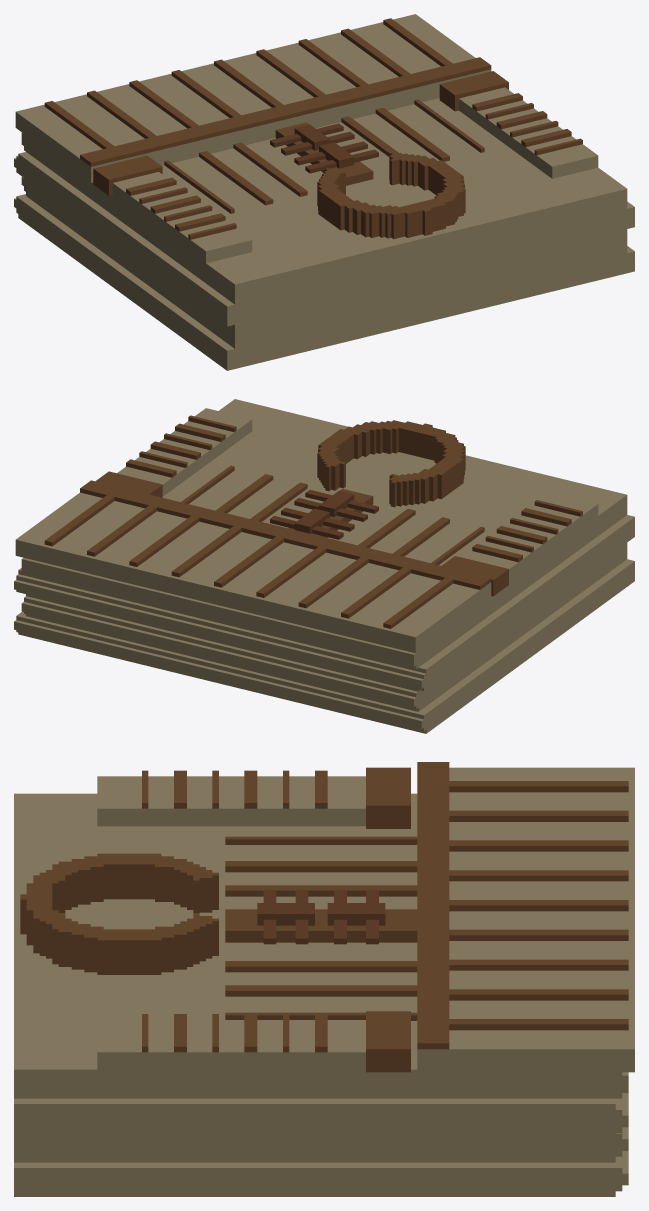
File: gambeson_canvas_thinsleeved.glb
3 views of the same model, one above another, from view 1: azimuth 30°, elevation 25°; view 2: azimuth 150°, elevation 25°; view 3: azimuth 270°, elevation 25° (orthographic). The views are drawn at different scales.
Visible parts, largest first — view 1: gambeson_canvas_thinsleeved:compound; view 2: gambeson_canvas_thinsleeved:compound; view 3: gambeson_canvas_thinsleeved:compound.
Boxes of the visible parts, bbox=[...] form: gambeson_canvas_thinsleeved:compound: bbox=[14, 14, 634, 370]; gambeson_canvas_thinsleeved:compound: bbox=[14, 399, 634, 733]; gambeson_canvas_thinsleeved:compound: bbox=[14, 762, 634, 1196].
Bounding box in the file's own units: 0.424 × 0.108 × 0.388.
